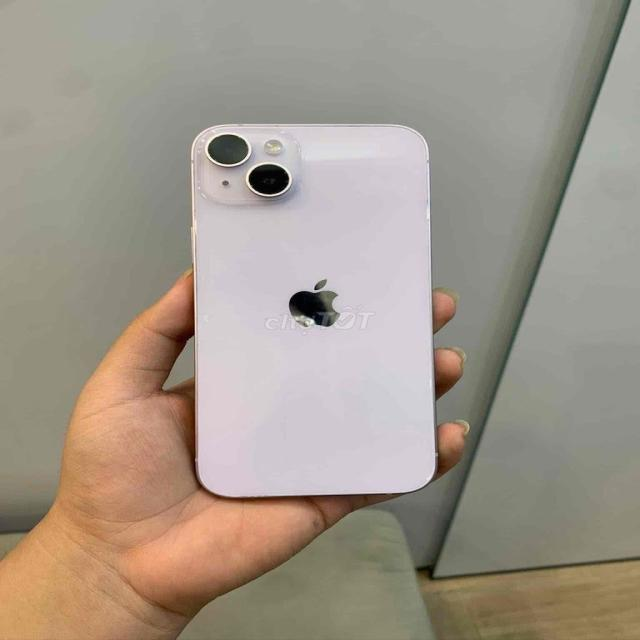gen_14: (176, 123, 449, 505)
